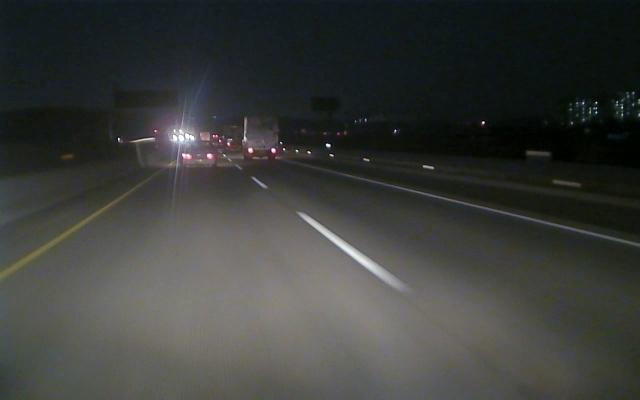lane: (333, 171, 639, 248), (253, 178, 410, 292), (1, 175, 156, 281)
